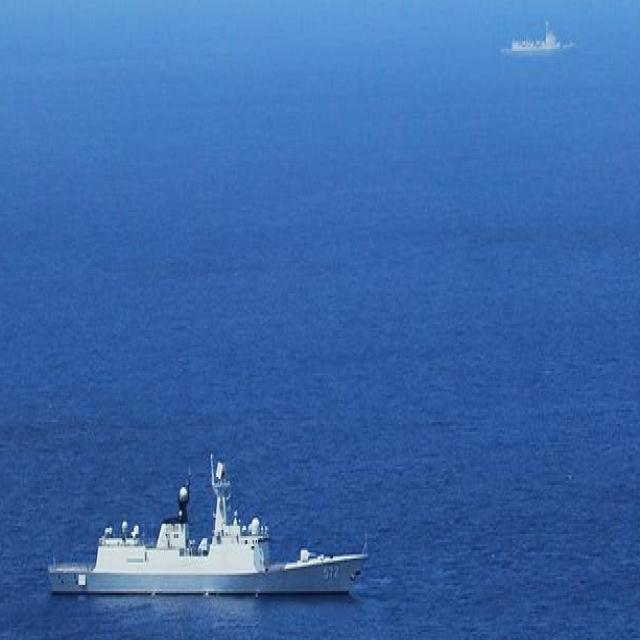navalvessels: (35, 446, 374, 606)
